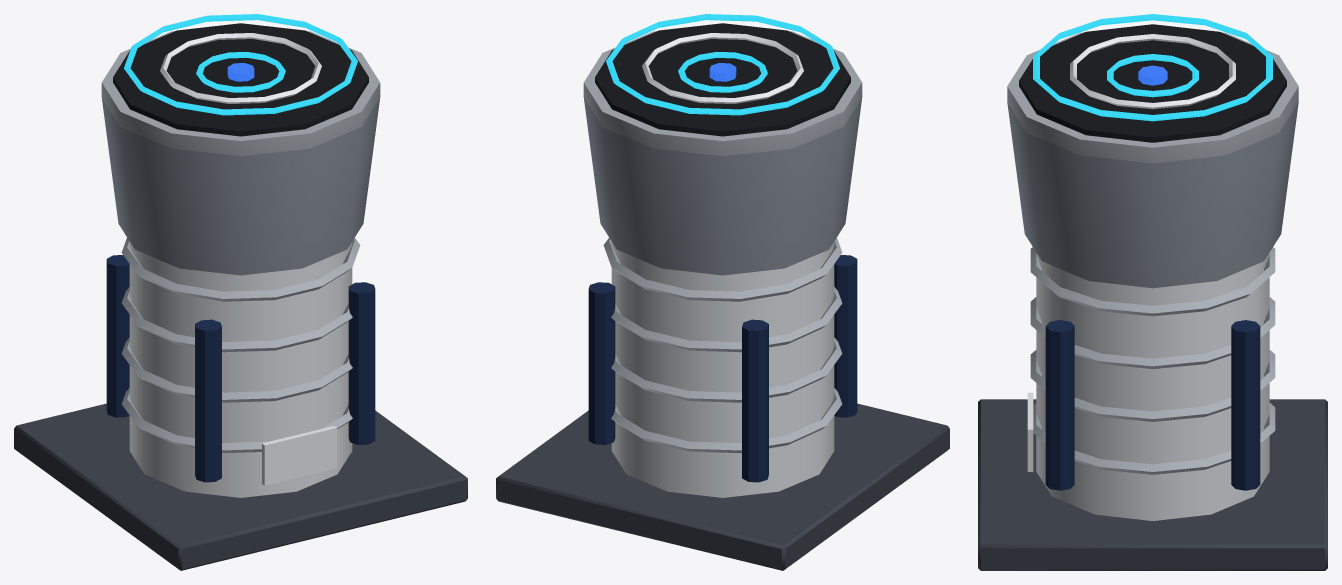
File: nozzle_ion_drive_engine.glb
3 views of the same model, side by side, from view 1: azimuth 30°, elevation 25°; view 2: azimuth 150°, elevation 25°; view 3: azimuth 270°, elevation 25° (orthographic). The views are drawn at different scales.
Visible parts, largest first — view 1: nozzle_ion_drive_engine; view 2: nozzle_ion_drive_engine; view 3: nozzle_ion_drive_engine.
Part boxes in pixels (bbox=[...]): nozzle_ion_drive_engine: bbox=[14, 14, 467, 570]; nozzle_ion_drive_engine: bbox=[496, 14, 949, 570]; nozzle_ion_drive_engine: bbox=[978, 14, 1327, 570].
Bounding box in the file's own units: 1.2 × 1.64 × 1.2.
